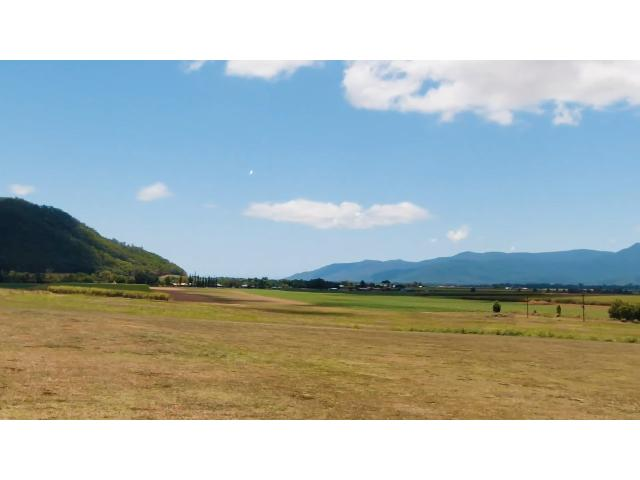Anti-Drone: (243, 164, 263, 184)
